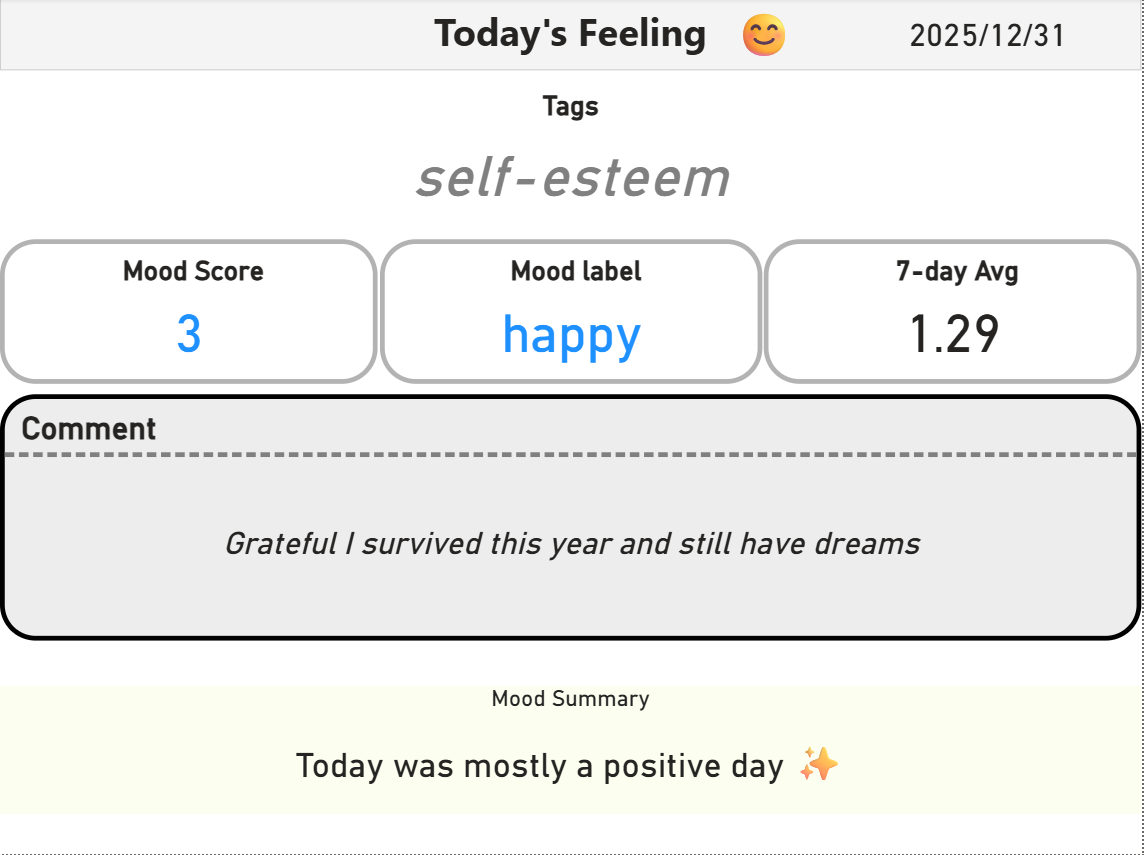

This screenshot's page, from the dashboard's own definition file:
{"tool":"powerbi","page":{"name":"Daily Dashboard","canvas":[960,720],"ordinal":1},"visuals":[{"type":"card","title":"Mood Score","fields":{"Values":["Sum(chattomo_logs.mood_score)"]},"box":[143,108.3,317.5,160.9],"z":0},{"type":"card","title":"Comment","fields":{"Values":["Min(chattomo_logs.comment)"]},"box":[0,513.1,959.9,207.1],"z":1000},{"type":"card","title":"Tags","fields":{"Values":["Min(chattomo_logs.Tag)"]},"box":[281.8,317.5,374.3,160.9],"z":2000},{"type":"textbox","box":[0,0,959.9,61],"z":3000},{"type":"card","title":"Mood Score","fields":{"Values":["Min(chattomo_logs.mood_label)"]},"box":[506.8,108.3,317.5,160.9],"z":4000}]}

Visuals, with their boxes in screenshot pixels (x1, y1, x2, y2), scaled from the page's 960x720 canvas onto the 1144x855 screenshot:
"Mood Score" card: (left=170, top=129, right=549, bottom=320)
"Comment" card: (left=0, top=609, right=1143, bottom=854)
"Tags" card: (left=336, top=377, right=782, bottom=568)
textbox: (left=0, top=0, right=1143, bottom=72)
"Mood Score" card: (left=604, top=129, right=982, bottom=320)
